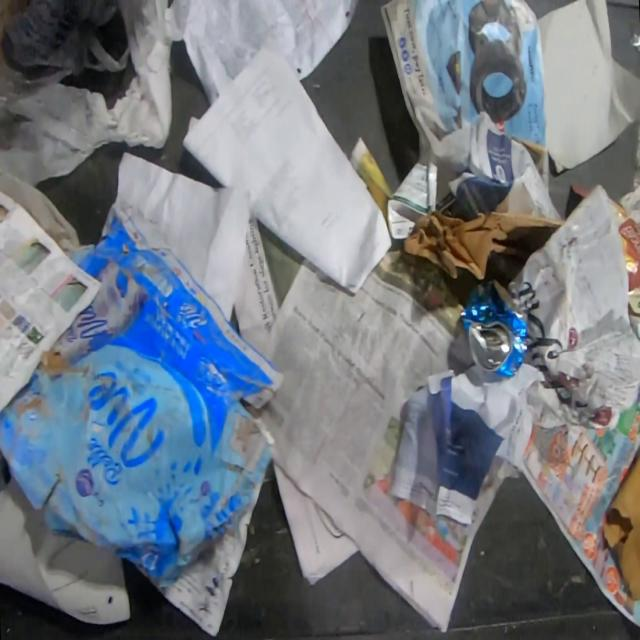cardboard: (0, 202, 289, 595), (609, 196, 640, 342)
metal: (458, 281, 528, 378)
soft_plastic: (0, 0, 172, 186)
